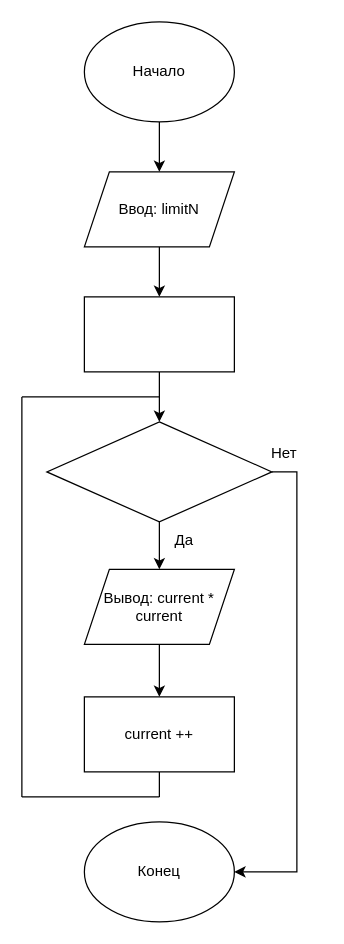
Image size: 344x944. Some labels were removed from this diagram. The box of each missing label's shape, as (x1, y1, x2, y2) in pixels:
current * current <= limitN?: (46, 421, 272, 522)
current = 1: (83, 296, 234, 372)
